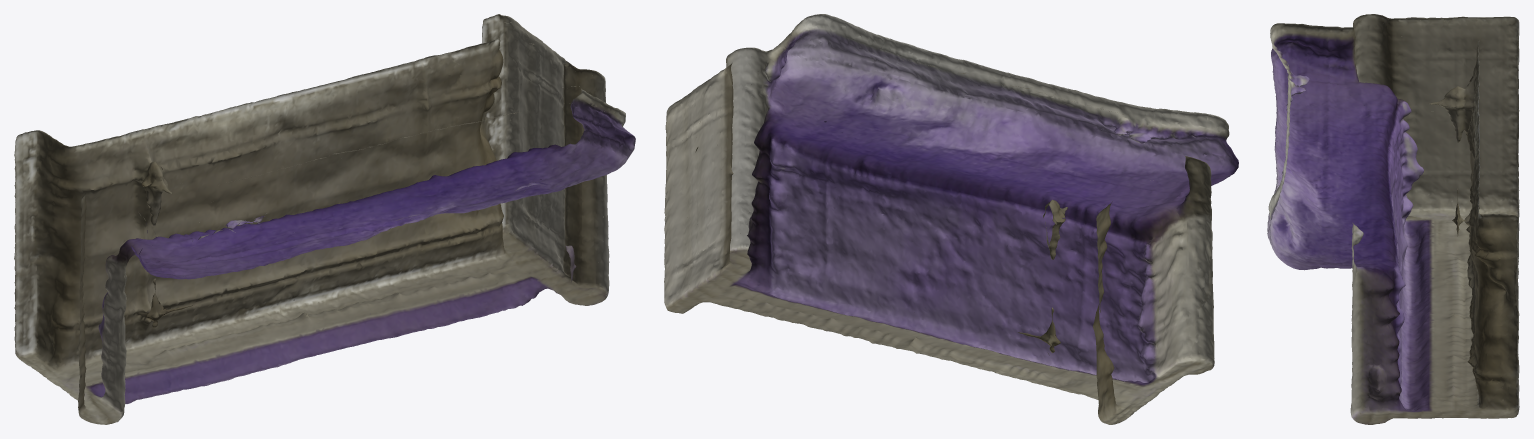
Rendered from sofa.glb.
3 views of the same model, side by side, from view 1: azimuth 30°, elevation 25°; view 2: azimuth 150°, elevation 25°; view 3: azimuth 270°, elevation 25° (orthographic). The views are drawn at different scales.
Size of the model in its own units: 1 by 0.4547 by 0.4734.
